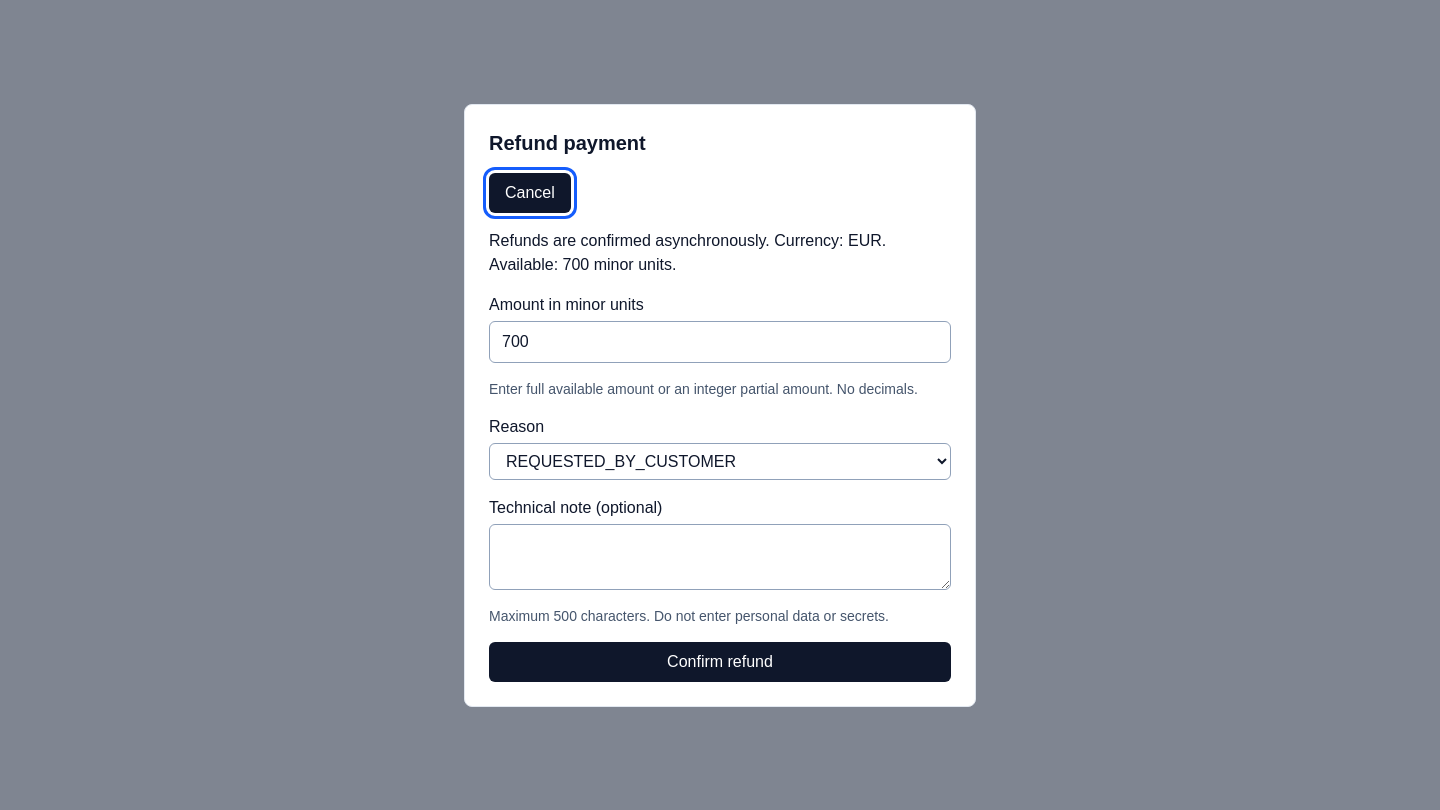
it: validates integer amount and note, sends exact currency/reason, accepts without claiming success
Replace the text in the field labelled "Amount in minor units" with "701" at point(720, 342), box [489, 320, 951, 362]
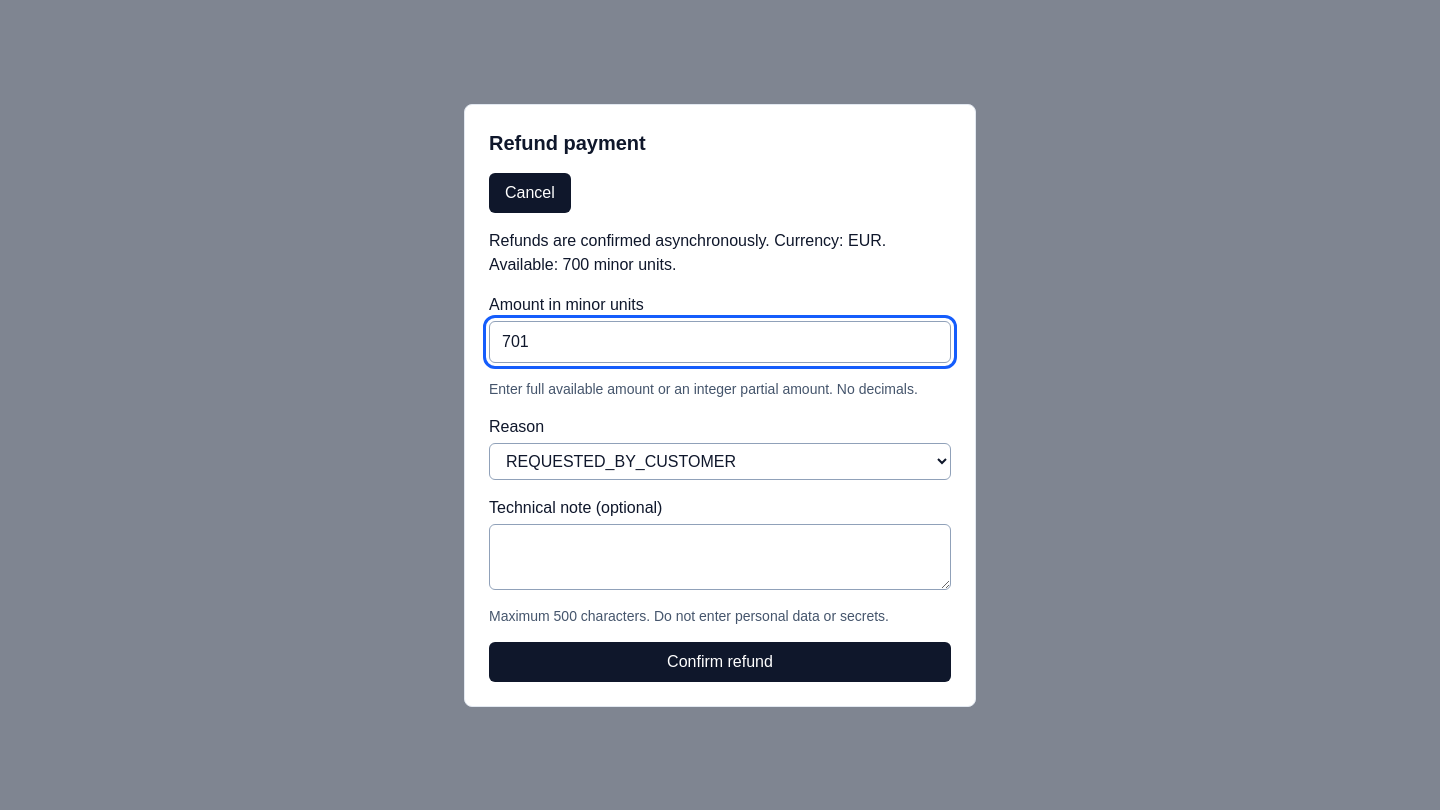
Click the button "Confirm refund" at point(720, 662), box [489, 642, 951, 682]
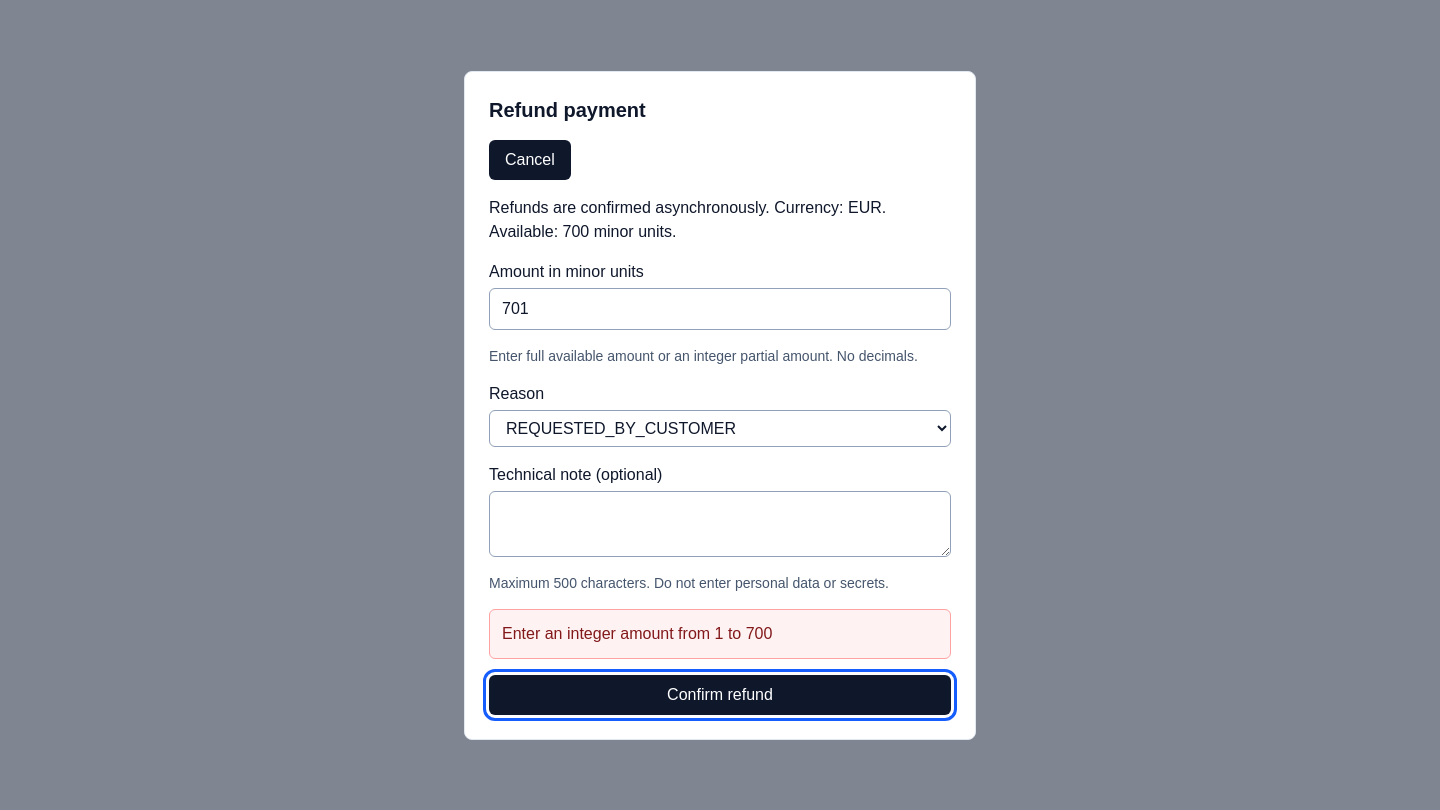
Expected: the message reads "Enter an integer amount from 1 to 700", [502, 624, 772, 642]
Clear the field labelled "Amount in minor units" at point(720, 308), box [489, 288, 951, 330]
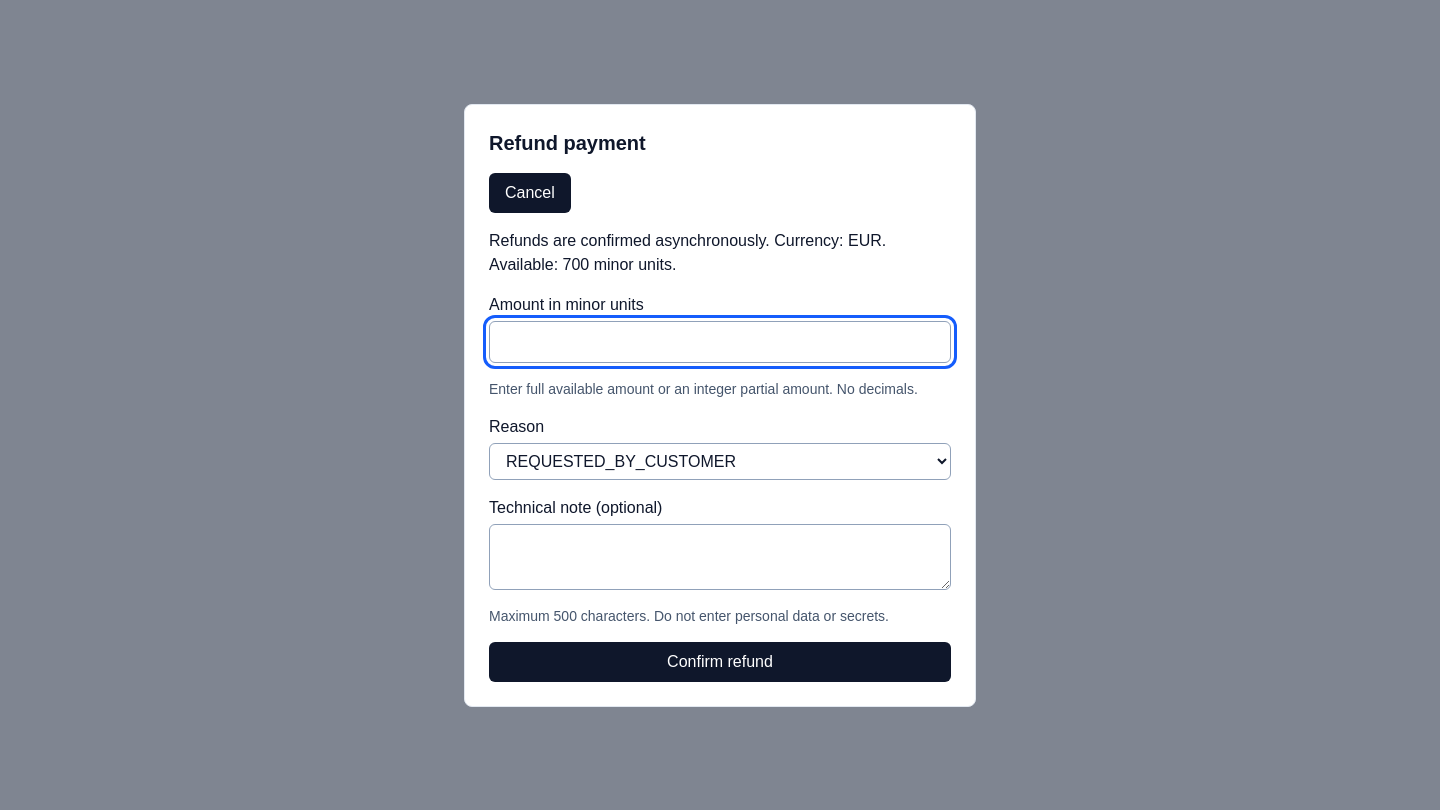
Type "200" into the field labelled "Amount in minor units" at point(720, 342), box [489, 320, 951, 362]
Select "DUPLICATE" in the dropdown labelled "Reason" at point(720, 461), box [489, 442, 951, 480]
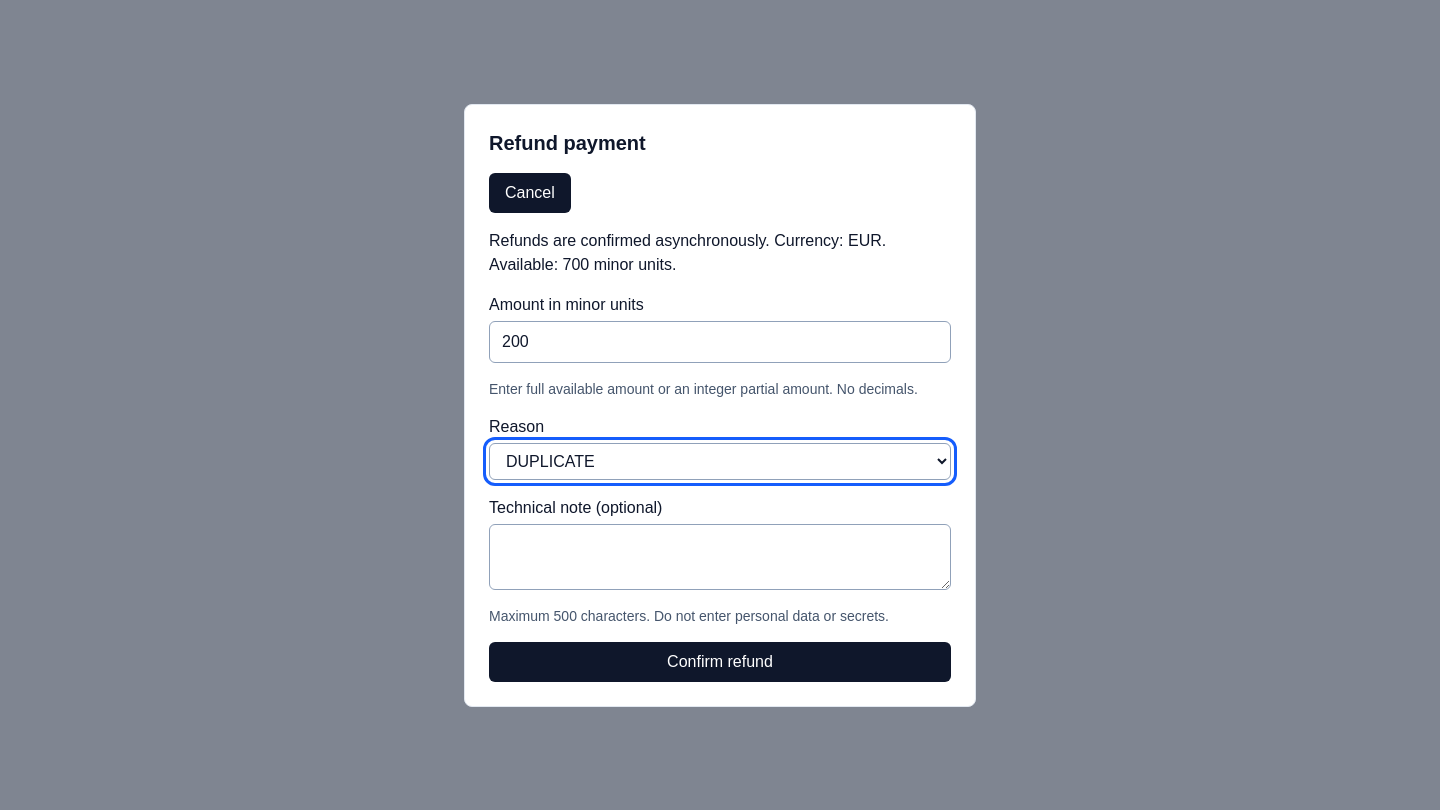
Type "technical reason" into the text box labelled "Technical note (optional)" at point(720, 556), box [489, 524, 951, 590]
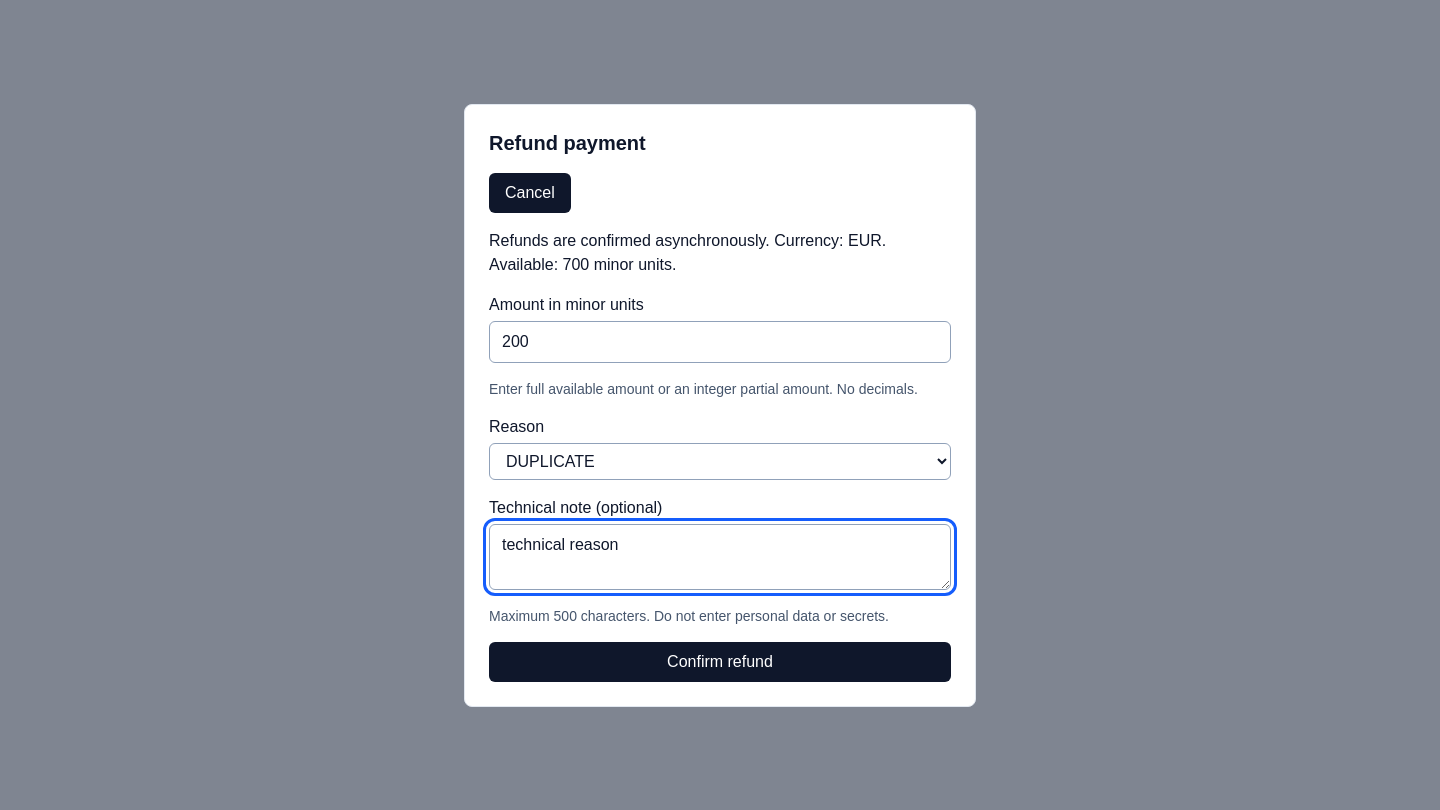
Click the button "Confirm refund" at point(720, 662), box [489, 642, 951, 682]
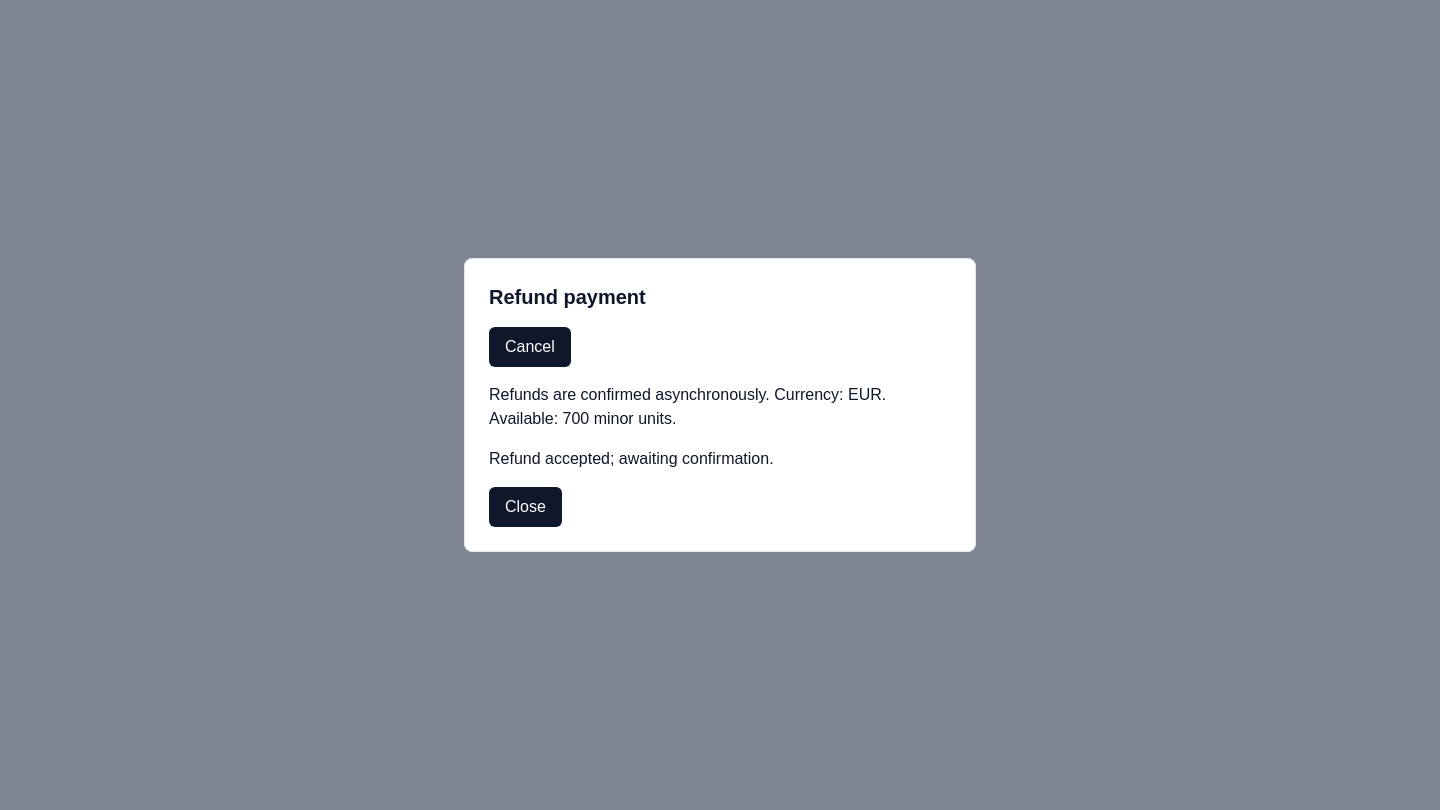
Expected: the message shows "Refund accepted; awaiting confirmation", [489, 450, 774, 467]
